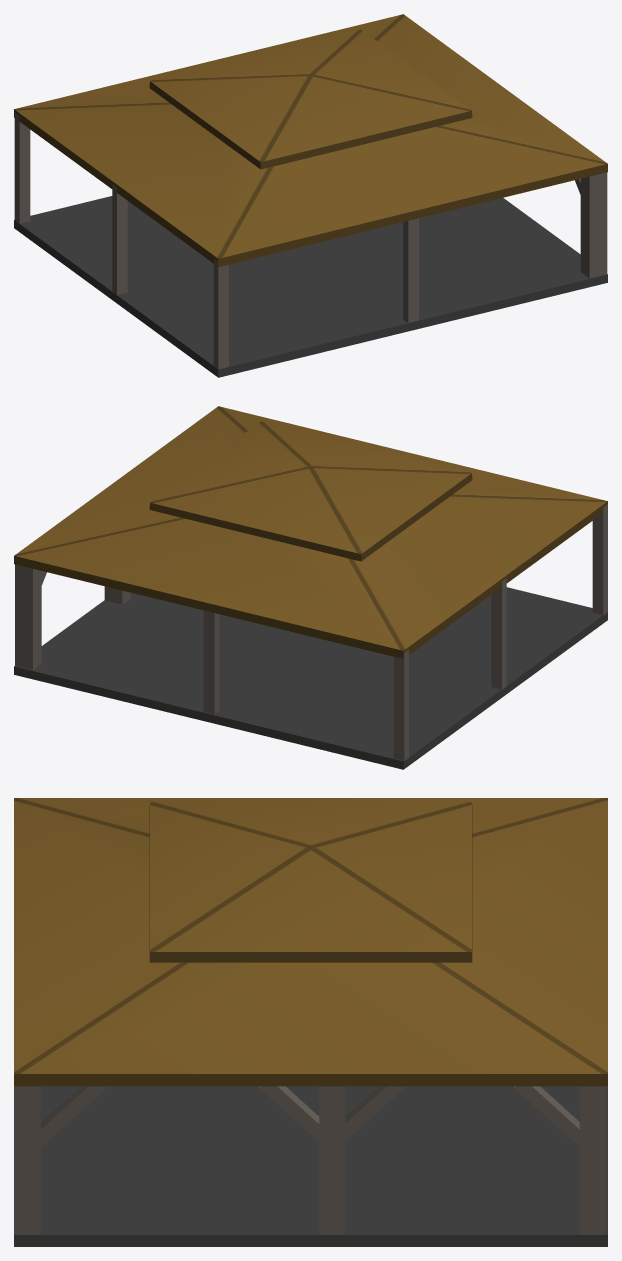
File: SquarePavillion.fbx
3 views of the same model, one above another, from view 1: azimuth 30°, elevation 25°; view 2: azimuth 150°, elevation 25°; view 3: azimuth 270°, elevation 25° (orthographic). The views are drawn at different scales.
Parts seen in each view (by area): view 1: polySurface21; view 2: polySurface21; view 3: polySurface21.
Part boxes in pixels (box(x1,y1,x2,y2)): polySurface21: box(14, 14, 607, 377); polySurface21: box(14, 406, 607, 769); polySurface21: box(14, 798, 607, 1246).
Bounding box in the file's own units: 13.89 × 6.16 × 12.63.
